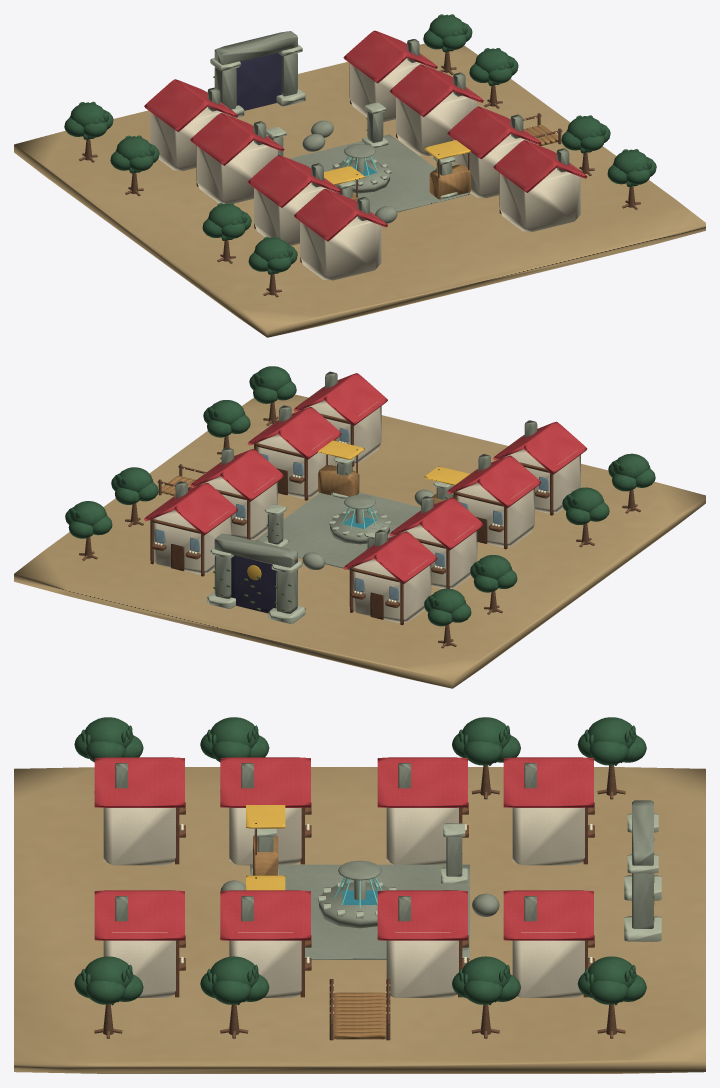
The model's file is lumenfall_corrupted.glb.
3 views of the same model, one above another, from view 1: azimuth 30°, elevation 25°; view 2: azimuth 150°, elevation 25°; view 3: azimuth 270°, elevation 25° (orthographic). The views are drawn at different scales.
Visible parts, largest first — view 1: lumenfall_corrupted_StaticBatch; view 2: lumenfall_corrupted_StaticBatch; view 3: lumenfall_corrupted_StaticBatch.
Part boxes in pixels (x1,y1,x2,y2): lumenfall_corrupted_StaticBatch: [14, 14, 705, 337]; lumenfall_corrupted_StaticBatch: [14, 366, 705, 688]; lumenfall_corrupted_StaticBatch: [14, 717, 705, 1073].
Bounding box in the file's own units: 22 × 3.72 × 22.
1 material, 1 textured.
